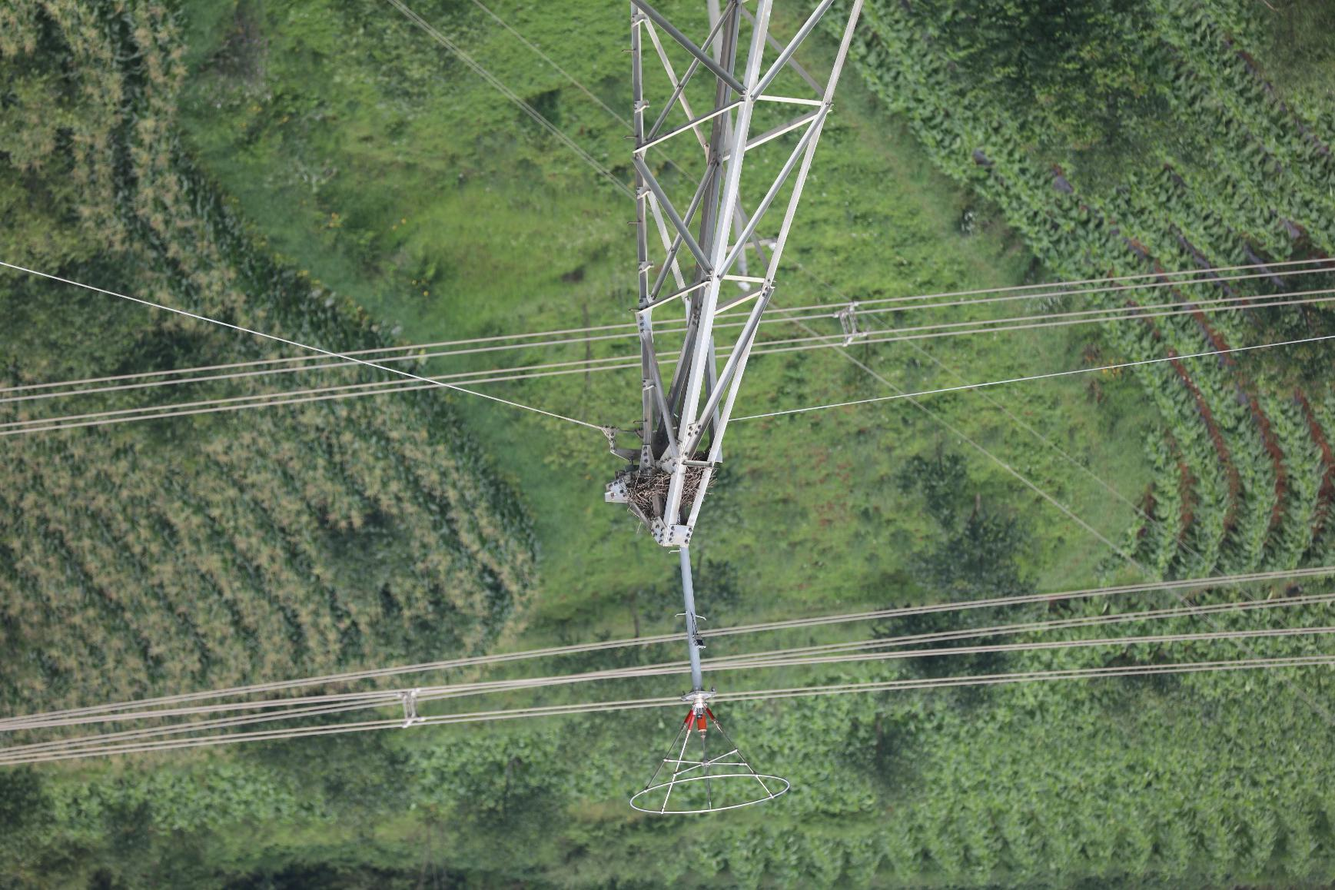nest: (623, 463, 705, 516)
